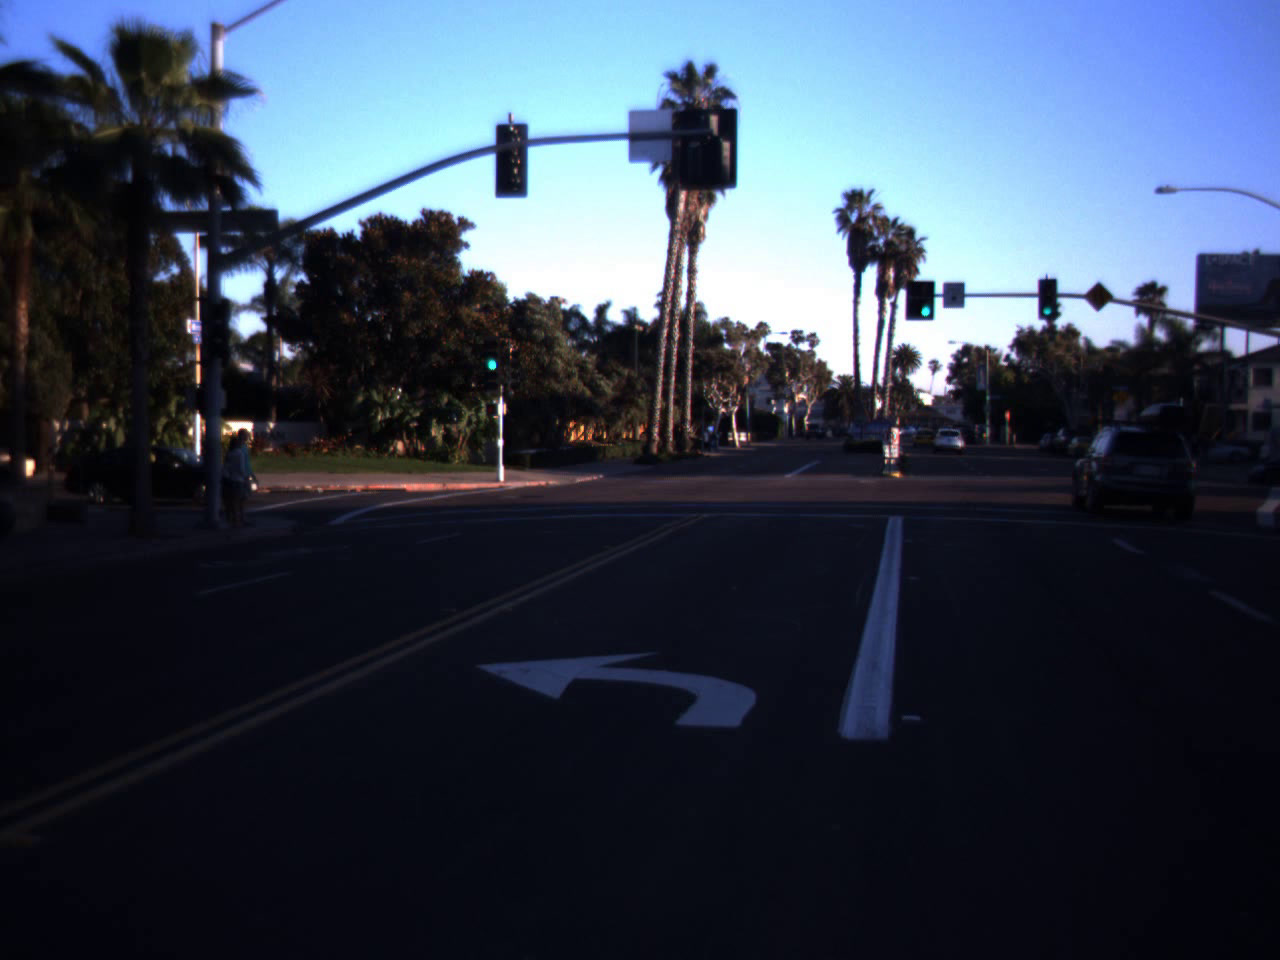go: (482, 333, 503, 373), (915, 280, 936, 320), (1040, 296, 1055, 316)
